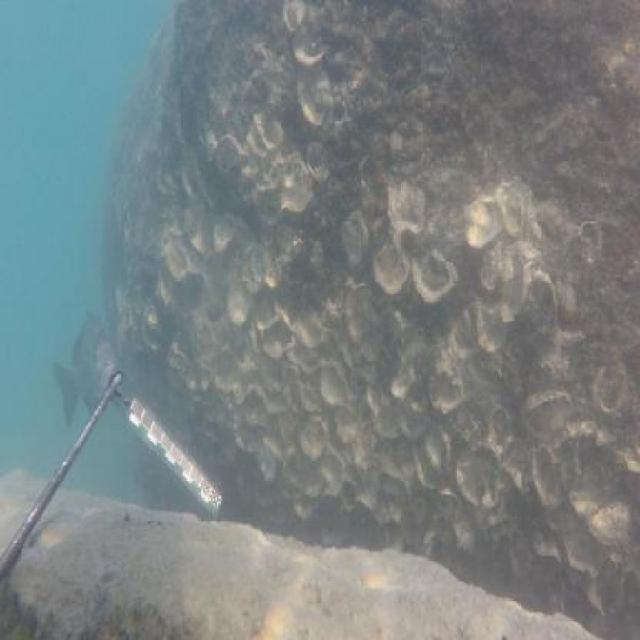acanthopagrus_palmaris: (54, 313, 117, 427)
